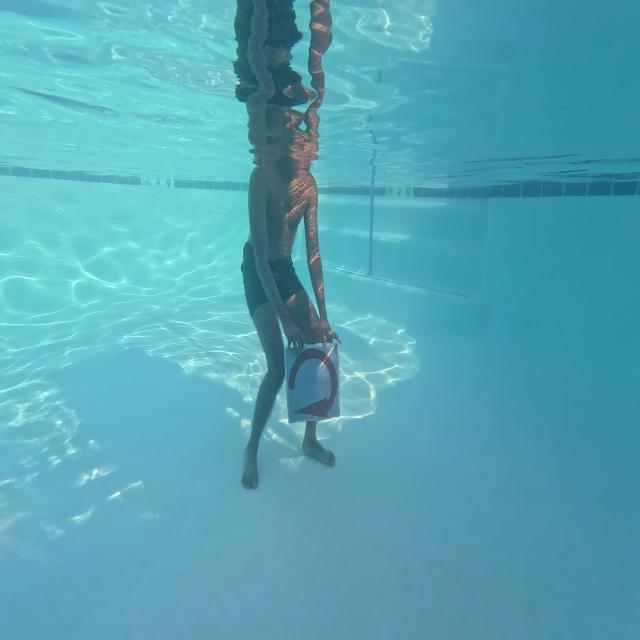red_side: (286, 342, 340, 424)
